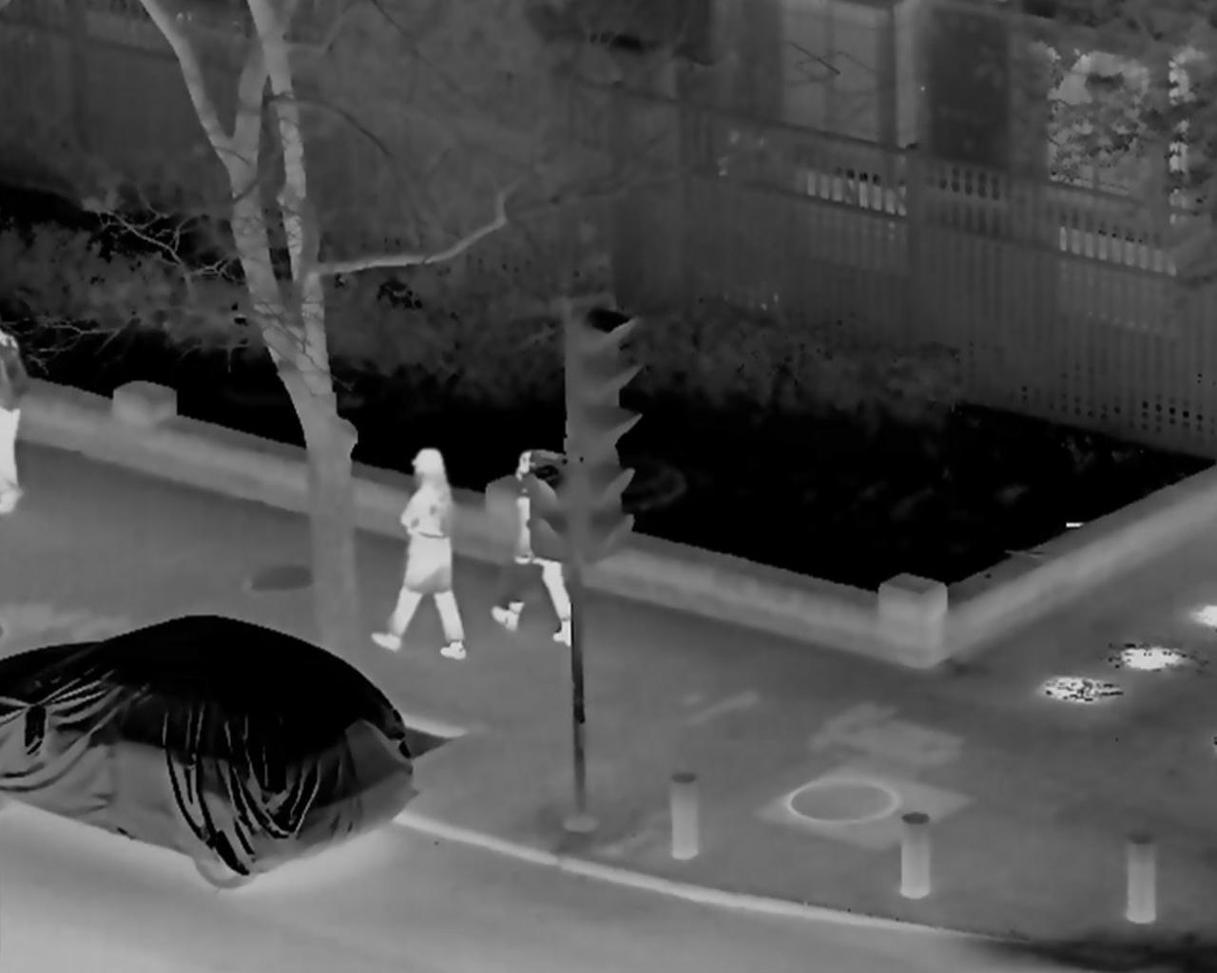person: (370, 435, 467, 661), (492, 448, 580, 646)
